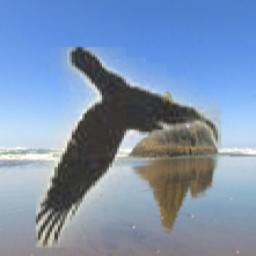Crow: (36, 48, 221, 249)
